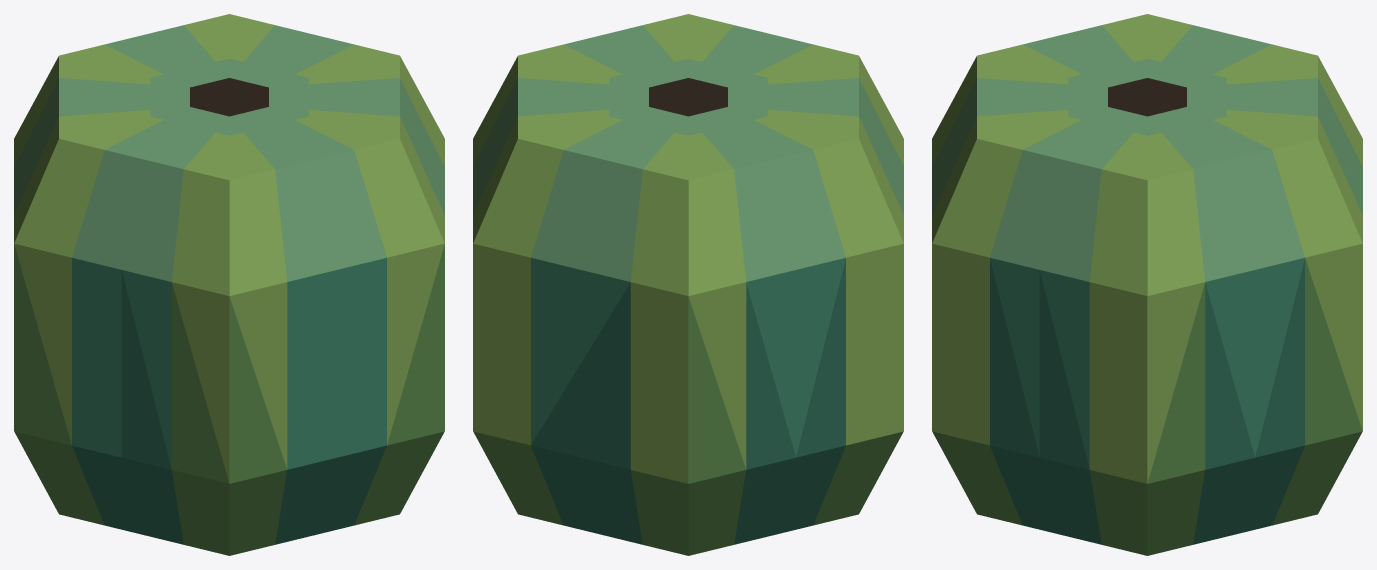
Rendered from crop_melon.glb.
3 views of the same model, side by side, from view 1: azimuth 30°, elevation 25°; view 2: azimuth 150°, elevation 25°; view 3: azimuth 270°, elevation 25° (orthographic).
Visible parts, largest first — view 1: crop_melon; view 2: crop_melon; view 3: crop_melon.
Part boxes in pixels (x1=…): crop_melon: x1=14, y1=14, x2=444, y2=555; crop_melon: x1=473, y1=14, x2=903, y2=555; crop_melon: x1=932, y1=14, x2=1362, y2=555.
Size of the model in its own units: 0.4176 by 0.348 by 0.3617.
